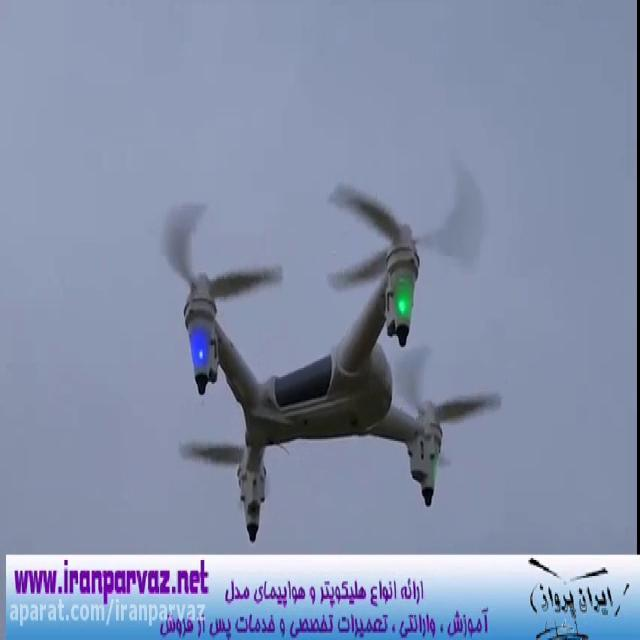drone: (155, 151, 508, 544)
